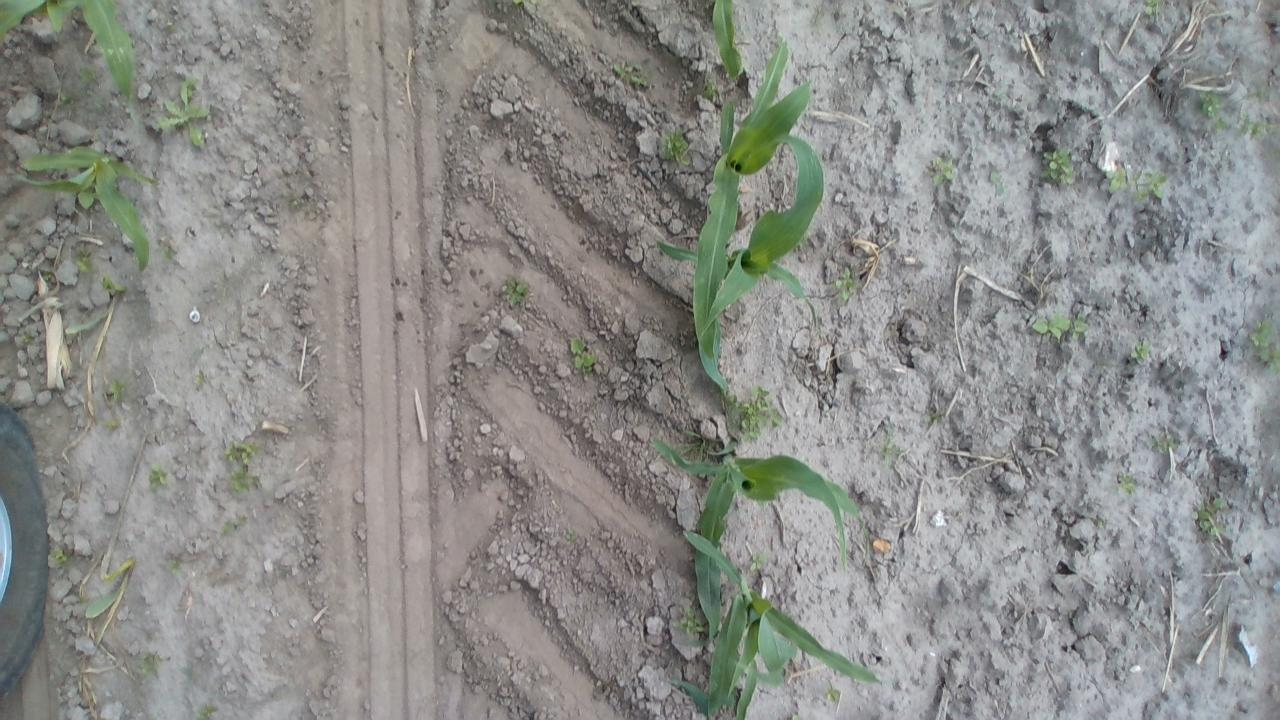Maize: (653, 436, 870, 646), (694, 45, 814, 407), (671, 531, 885, 720), (658, 134, 826, 340), (14, 149, 156, 275), (0, 0, 138, 107), (708, 0, 746, 81)
Weeds: (153, 74, 210, 149), (732, 384, 783, 443), (674, 426, 726, 466), (1249, 317, 1280, 374), (658, 128, 696, 170), (1040, 148, 1076, 186), (1234, 112, 1278, 143), (1192, 498, 1228, 535), (875, 426, 904, 468), (830, 267, 862, 303), (1132, 169, 1168, 200), (672, 605, 708, 633), (1032, 312, 1070, 338), (230, 468, 260, 494), (614, 62, 646, 86), (570, 336, 594, 368), (503, 278, 530, 304), (76, 181, 100, 210), (930, 157, 956, 183), (238, 441, 264, 465), (1106, 166, 1128, 194), (1200, 88, 1219, 119), (1147, 433, 1178, 452), (148, 461, 168, 490), (139, 653, 164, 676), (1112, 472, 1136, 494), (702, 74, 725, 96), (101, 272, 124, 294), (78, 63, 99, 87), (220, 516, 246, 533), (1074, 313, 1090, 338), (1242, 85, 1267, 101), (1130, 341, 1152, 359), (195, 704, 217, 720), (106, 378, 120, 402), (922, 411, 944, 426), (823, 685, 841, 703), (990, 172, 1003, 196), (158, 242, 174, 260), (1146, 0, 1164, 16), (750, 552, 764, 572), (222, 442, 235, 462), (50, 548, 66, 564), (76, 258, 92, 274), (166, 560, 182, 575), (1212, 116, 1226, 132), (565, 528, 576, 544), (512, 0, 540, 6), (192, 374, 205, 386), (58, 91, 72, 101), (75, 594, 88, 604), (290, 199, 301, 209), (994, 90, 1006, 99), (1096, 518, 1106, 527), (21, 334, 28, 342), (792, 716, 802, 720), (167, 22, 175, 27)
